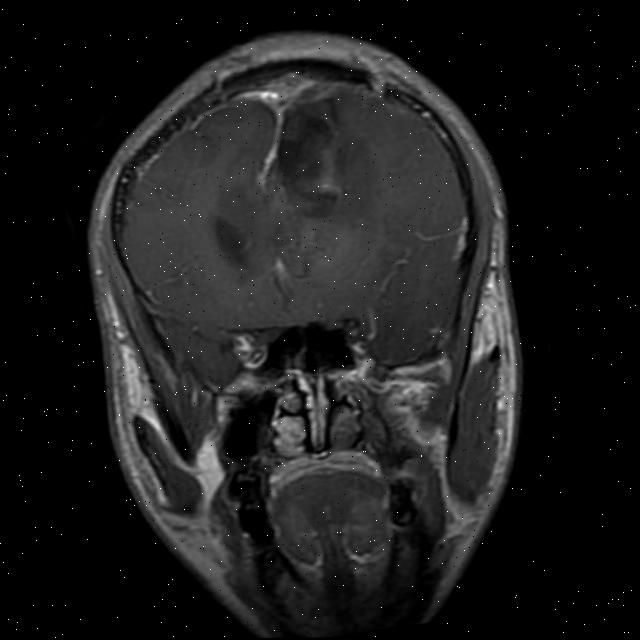Glioma: (267, 96, 354, 224)
